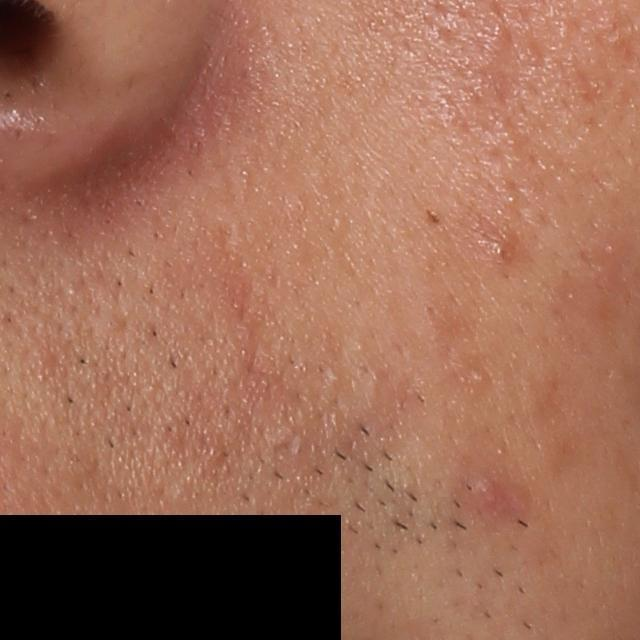comedo: (468, 366, 493, 386)
papule: (472, 473, 517, 520)
